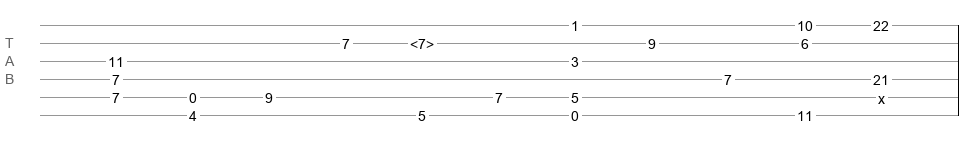0: (189, 90, 197, 100), (571, 108, 579, 118)
1: (571, 18, 579, 28)
10: (797, 18, 813, 28)
11: (108, 54, 124, 64), (797, 108, 813, 118)
21: (873, 72, 889, 82)
22: (873, 18, 889, 28)
3: (571, 54, 579, 64)
4: (189, 108, 197, 118)
5: (418, 108, 426, 118), (571, 90, 579, 100)
6: (801, 36, 809, 46)
7: (112, 72, 120, 82), (112, 90, 120, 100), (342, 36, 350, 46), (495, 90, 503, 100), (724, 72, 732, 82)
9: (265, 90, 273, 100), (648, 36, 656, 46)
harmonic: (410, 36, 434, 46)
x: (878, 91, 885, 99)
